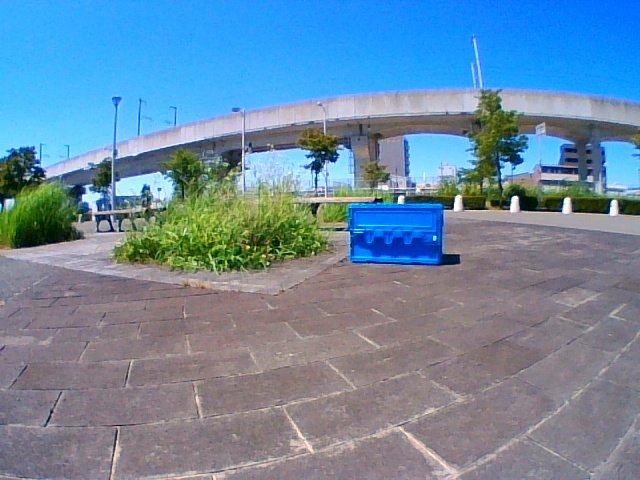blue_box: (350, 204, 441, 262)
